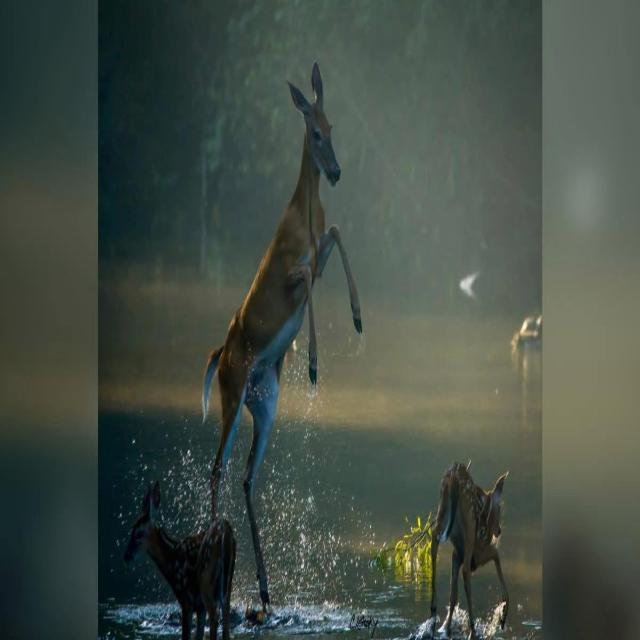deer: (202, 63, 362, 610), (124, 482, 236, 639), (430, 462, 509, 639)
